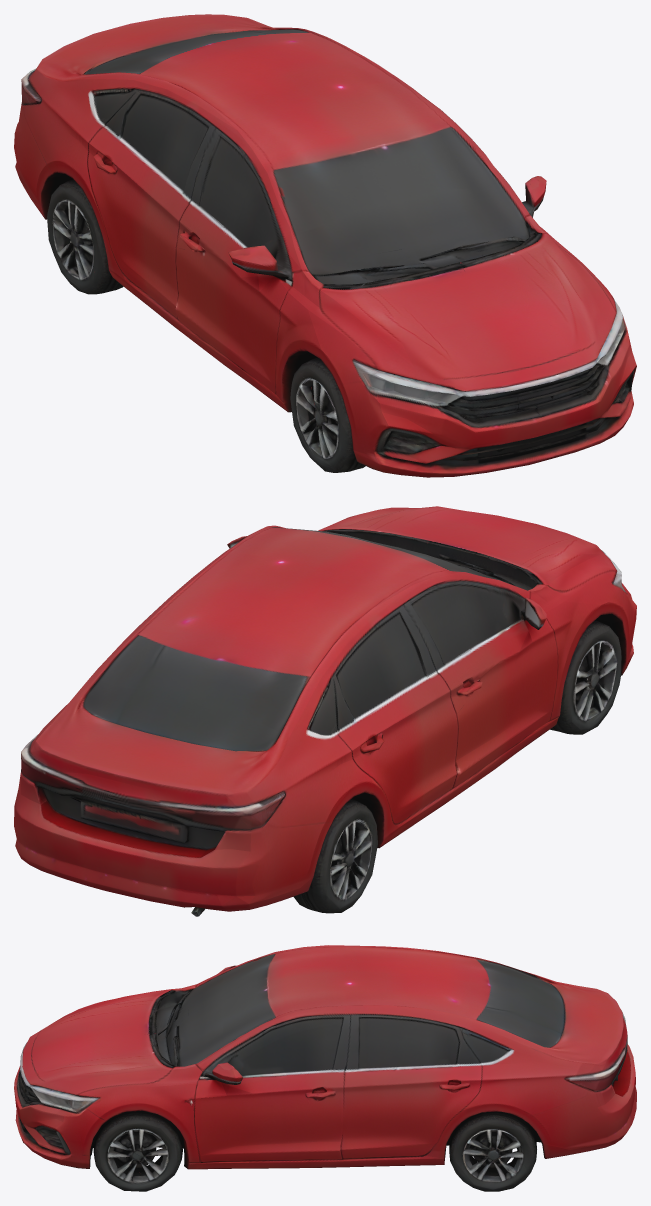
Rendered from red_car_complete.glb.
3 views of the same model, one above another, from view 1: azimuth 30°, elevation 25°; view 2: azimuth 150°, elevation 25°; view 3: azimuth 270°, elevation 25° (orthographic). The views are drawn at different scales.
Visible parts, largest first — view 1: model; view 2: model; view 3: model.
Part boxes in pixels (<box>): model: <box>14,14,636,477</box>; model: <box>14,506,636,916</box>; model: <box>14,945,636,1191</box>.
Size of the model in its own units: 0.8091 by 0.5808 by 1.91.
1 material, 1 textured.
